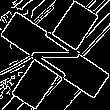N_SE: (23, 24, 87, 86)
